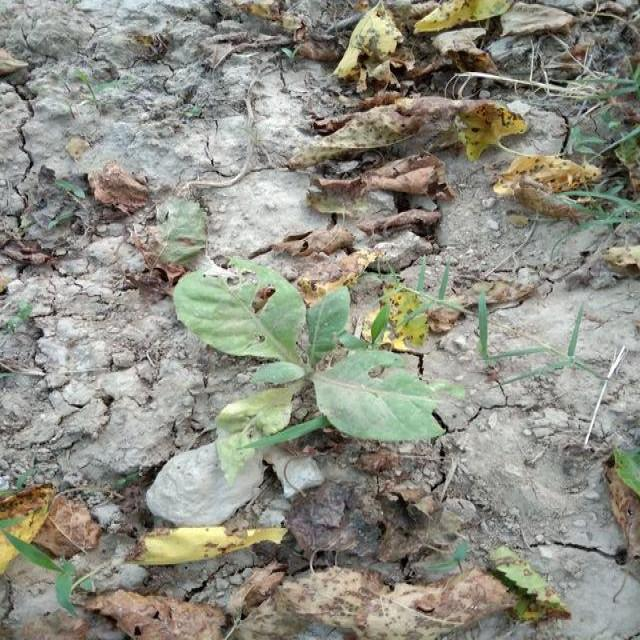crop: (156, 239, 455, 489)
